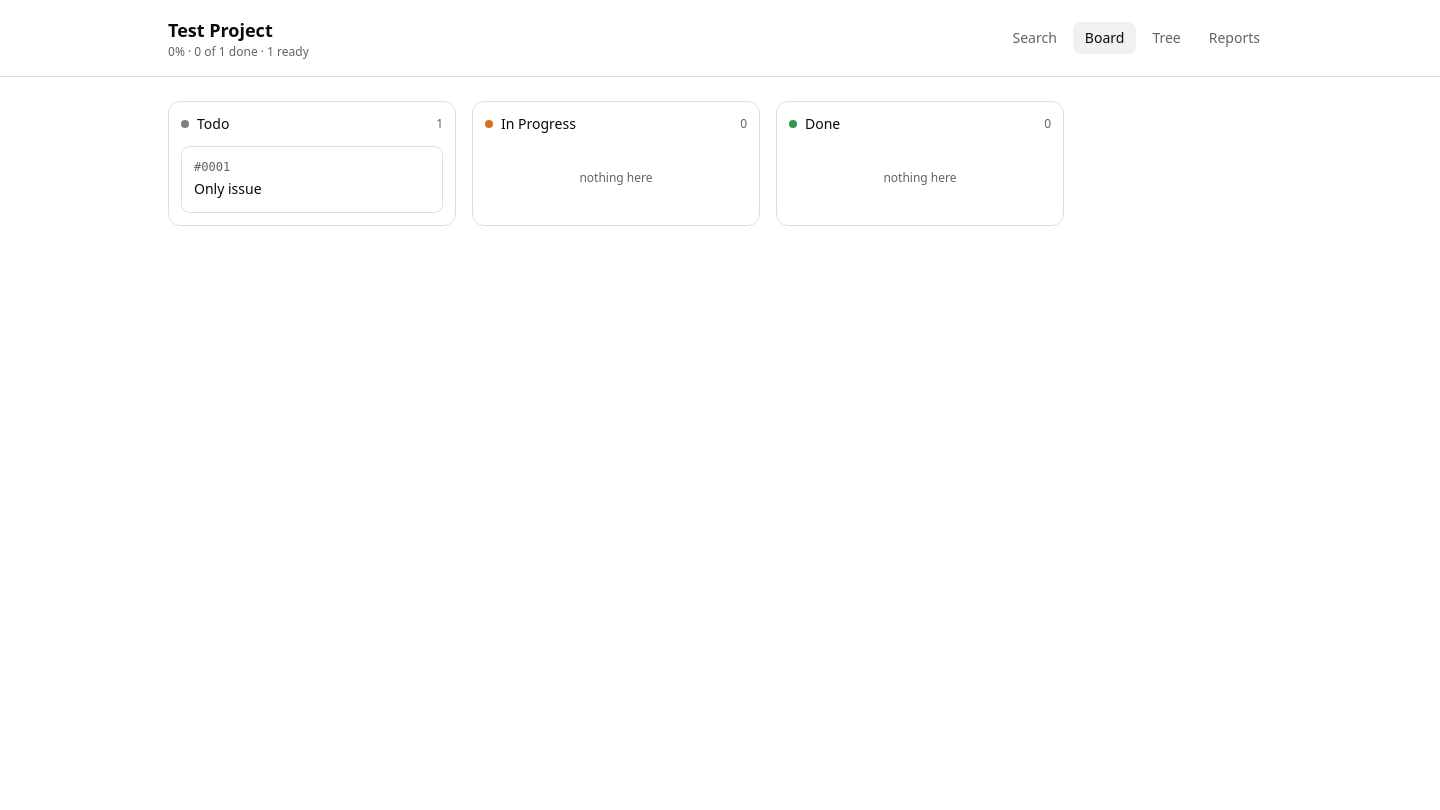
Test: search › shows a matching issue, and where the match was
Expected: the element with test id "board" is shown, x1=168 y1=101 x2=1064 y2=226
Click the button with test id "search-open" at (1035, 38), box x1=1000 y1=22 x2=1069 y2=54
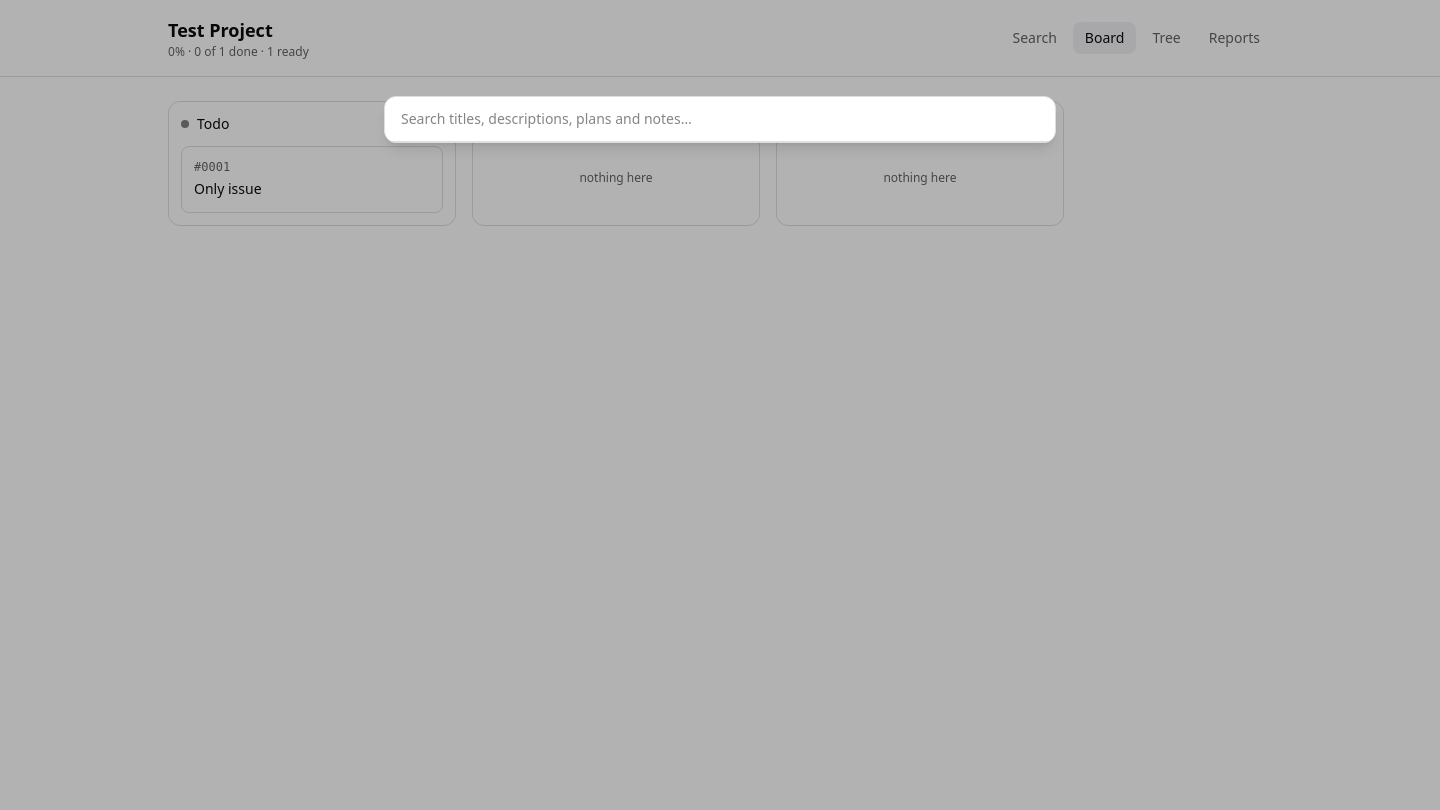
Type "only" into the field with test id "search-input" at (720, 120), box x1=385 y1=97 x2=1055 y2=142
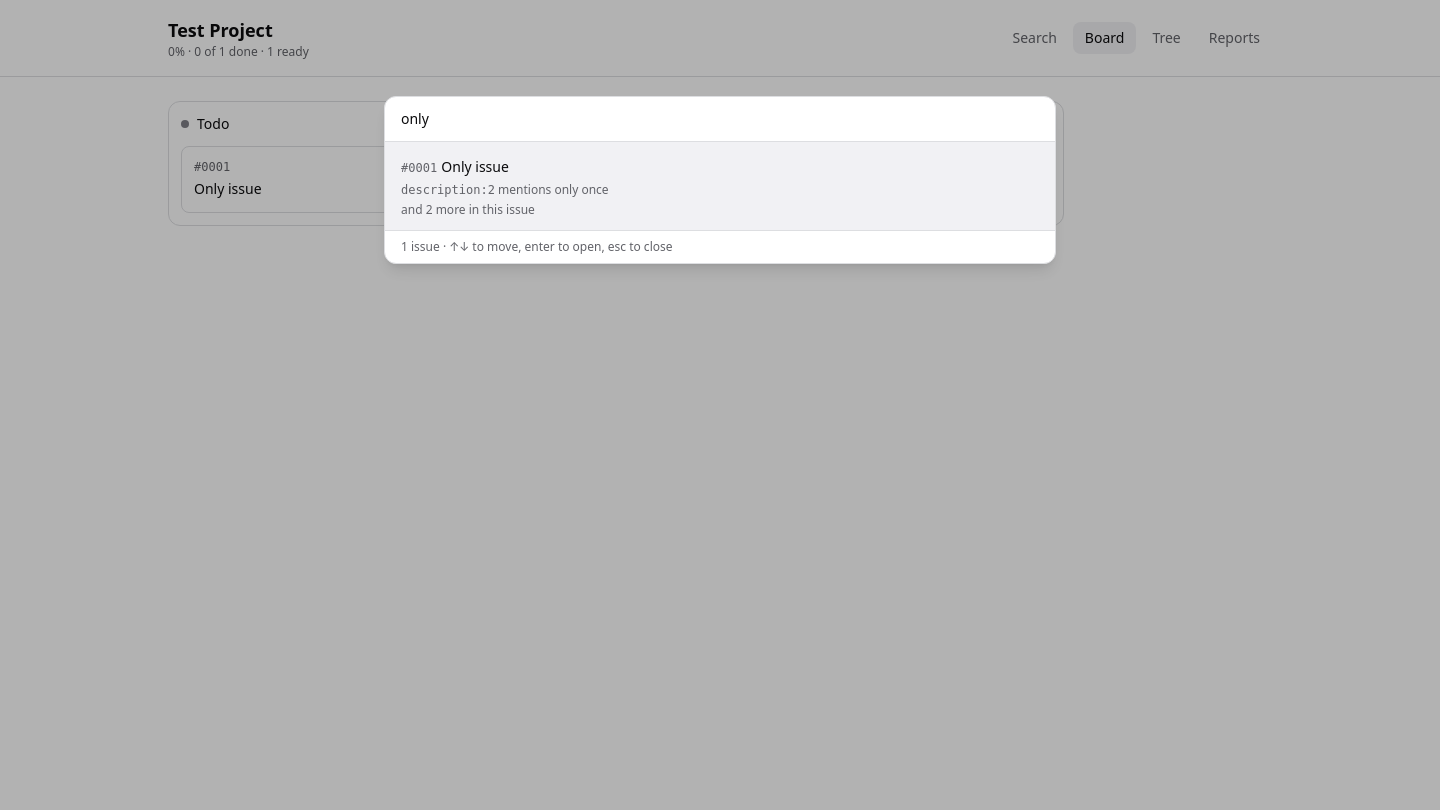
Expected: the button with test id "search-result-1" shows "Only issue", x1=385 y1=142 x2=1055 y2=230
Expected: the button with test id "search-result-1" shows "description:2", x1=385 y1=142 x2=1055 y2=230
Expected: the button with test id "search-result-1" shows "2 more in this issue", x1=385 y1=142 x2=1055 y2=230
